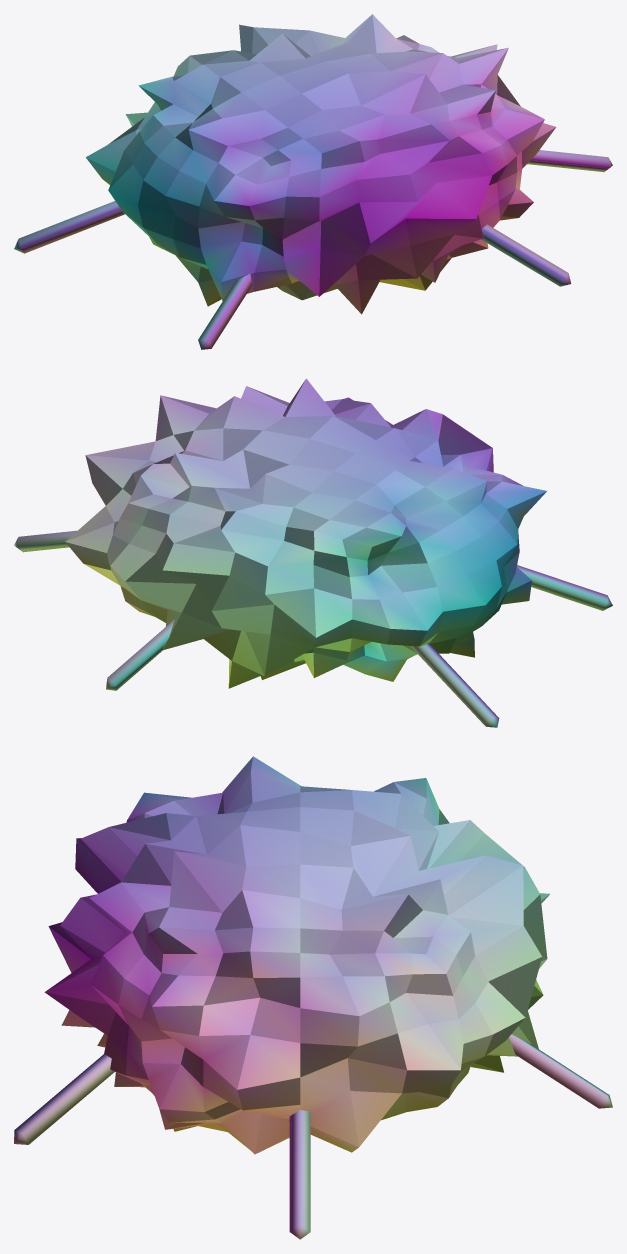
Rendered from env_deco_dust.glb.
3 renders of one model, top to bottom at view 1: azimuth 30°, elevation 25°; view 2: azimuth 150°, elevation 25°; view 3: azimuth 270°, elevation 25°, orthographic. The views are drawn at different scales.
Visible parts, largest first — view 1: env_deco_dust_mesh; view 2: env_deco_dust_mesh; view 3: env_deco_dust_mesh.
Part boxes in pixels (bbox=[...]): env_deco_dust_mesh: bbox=[14, 14, 612, 349]; env_deco_dust_mesh: bbox=[14, 378, 612, 727]; env_deco_dust_mesh: bbox=[14, 756, 612, 1239].
Bounding box in the file's own units: 0.4566 × 0.1768 × 0.3418.
